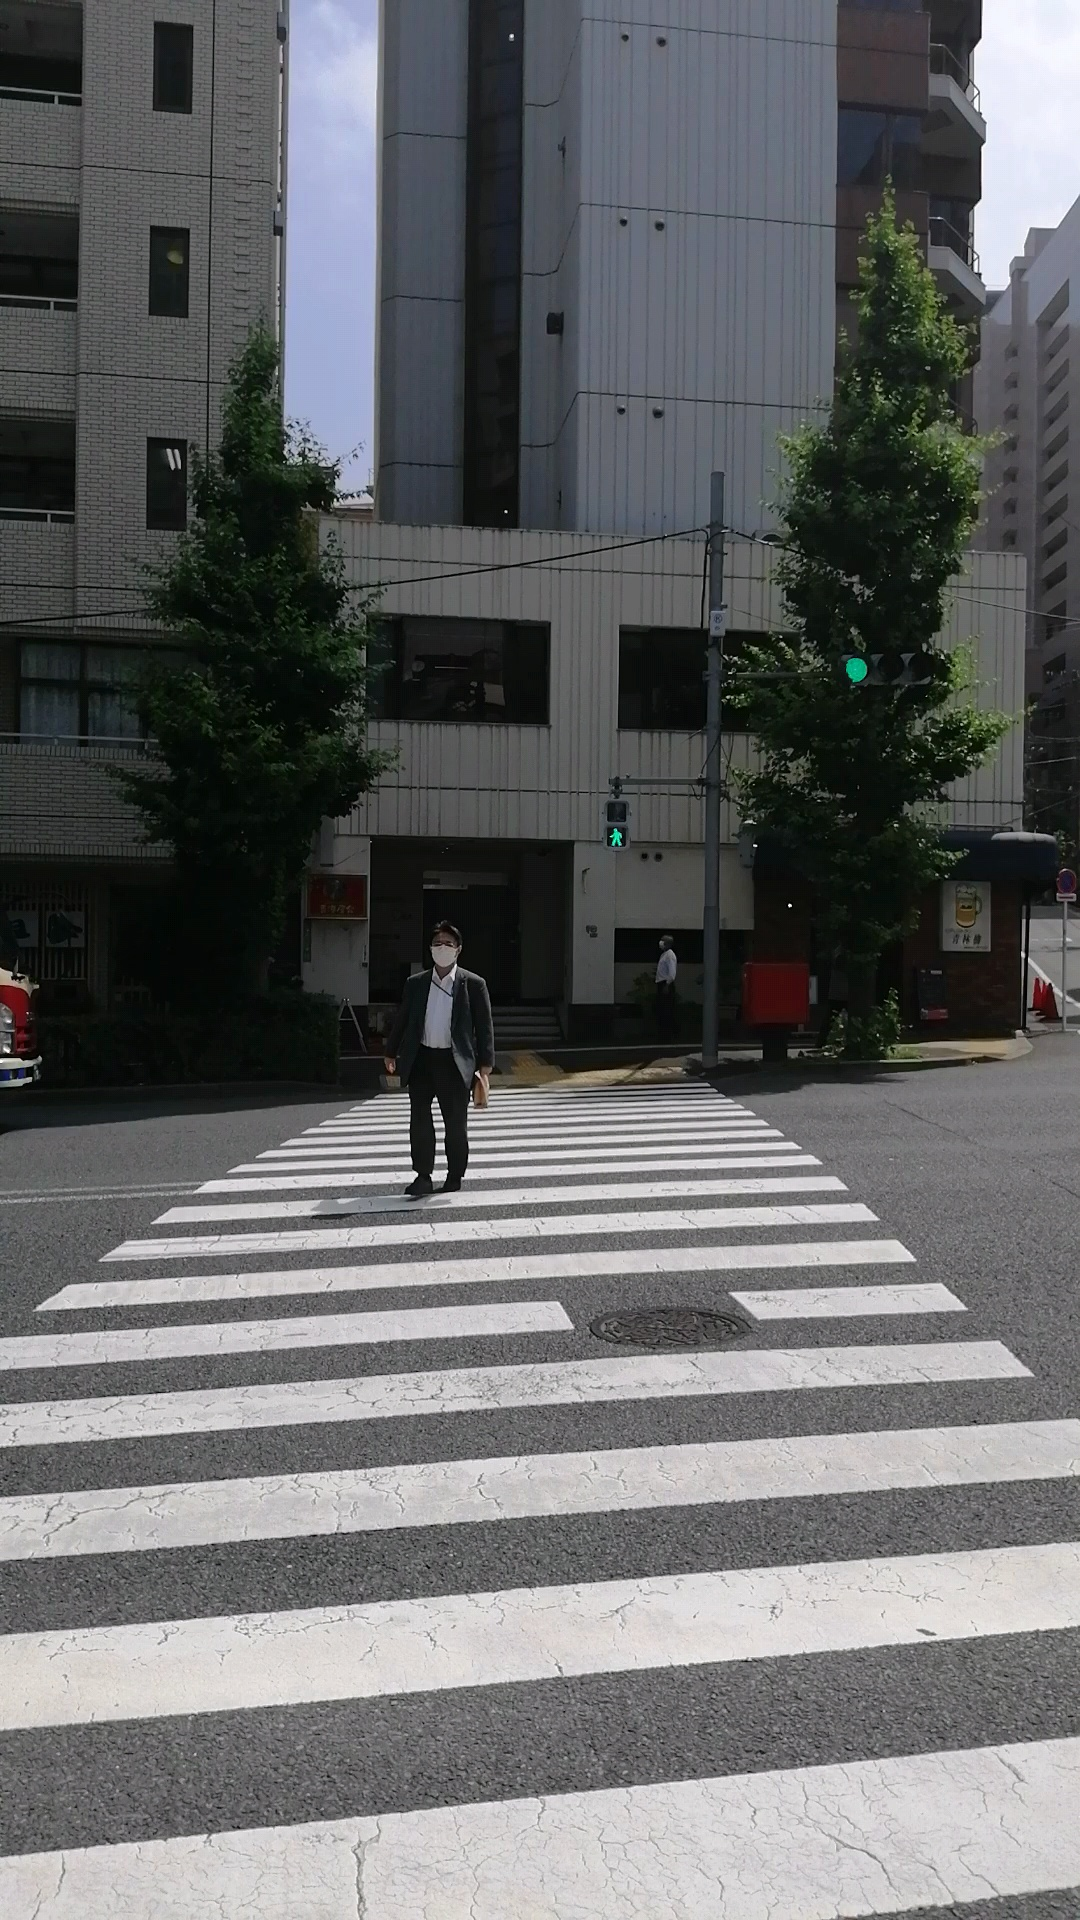green: (601, 798, 629, 852)
